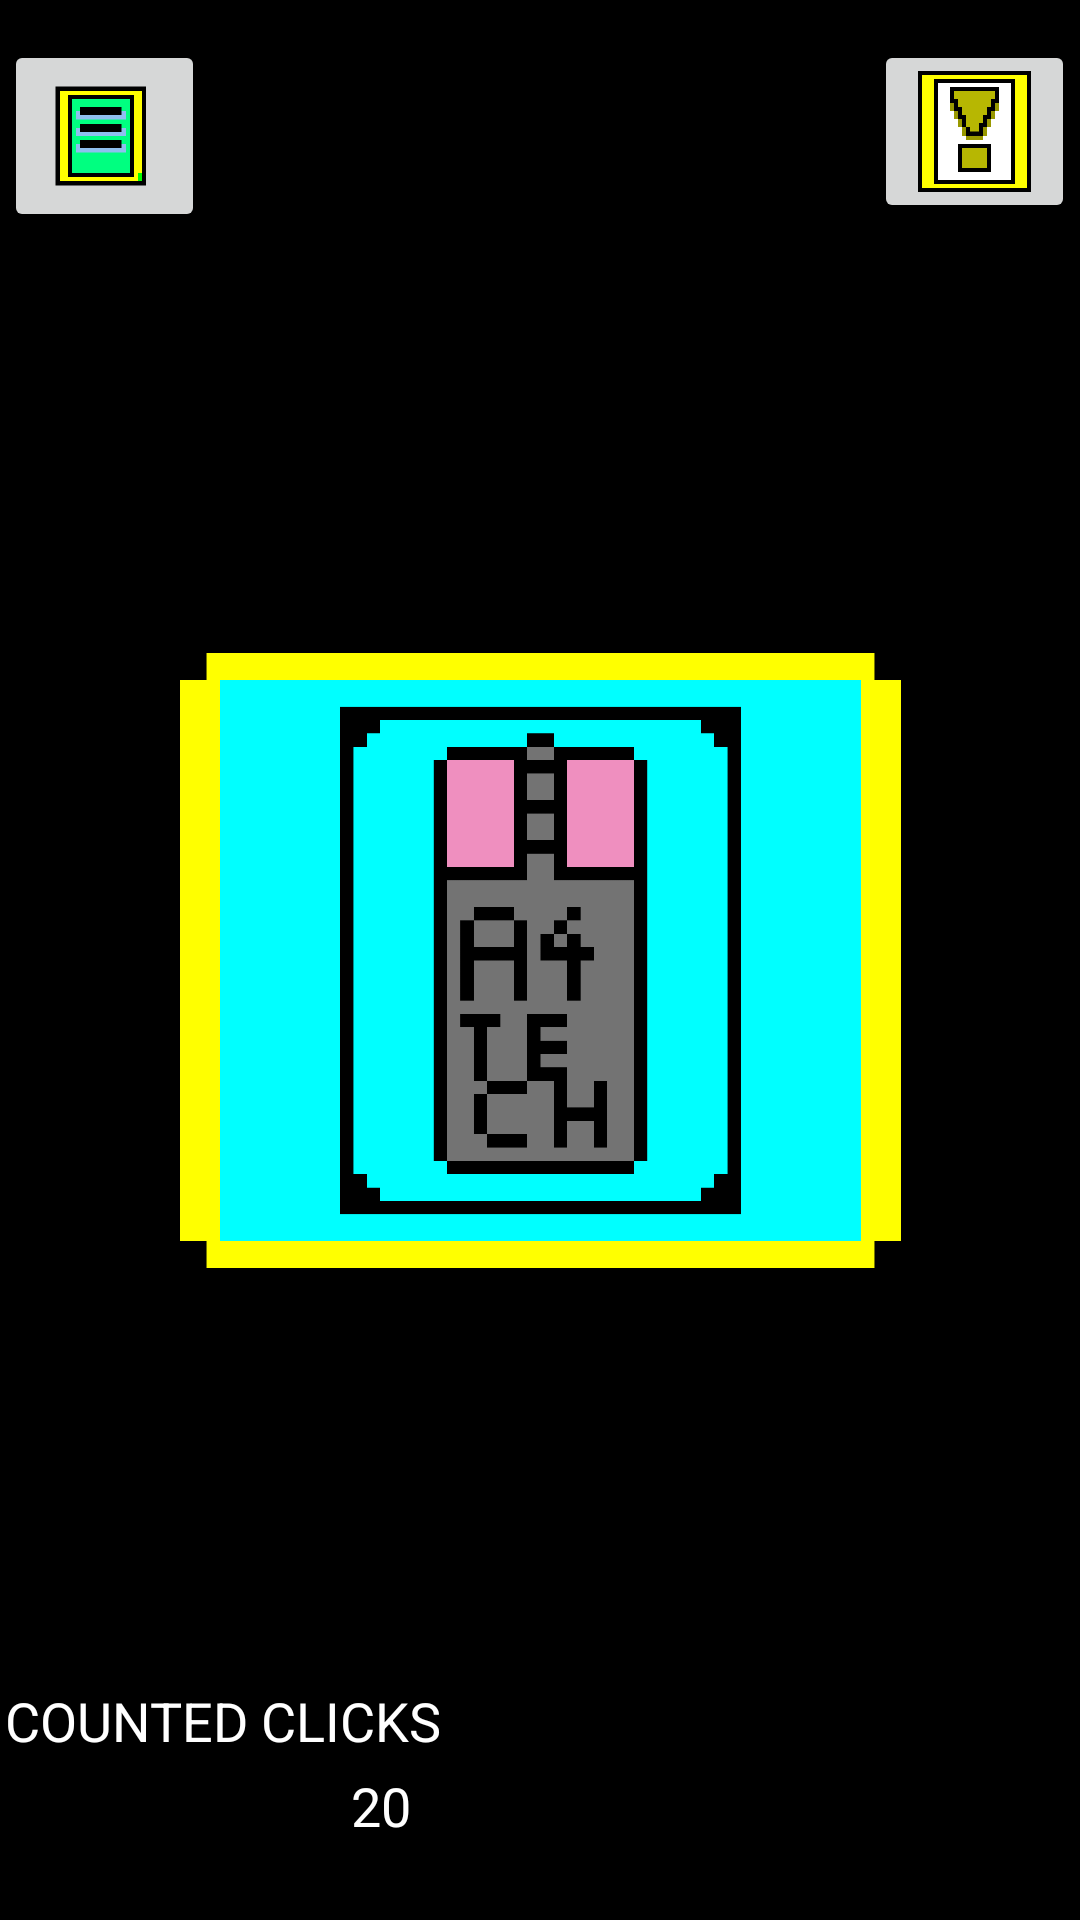

Icon click points for this 1080px x 1920px phone screenshot, format (x,y):
hintbutton: (974,131)
menubutton: (104,136)
